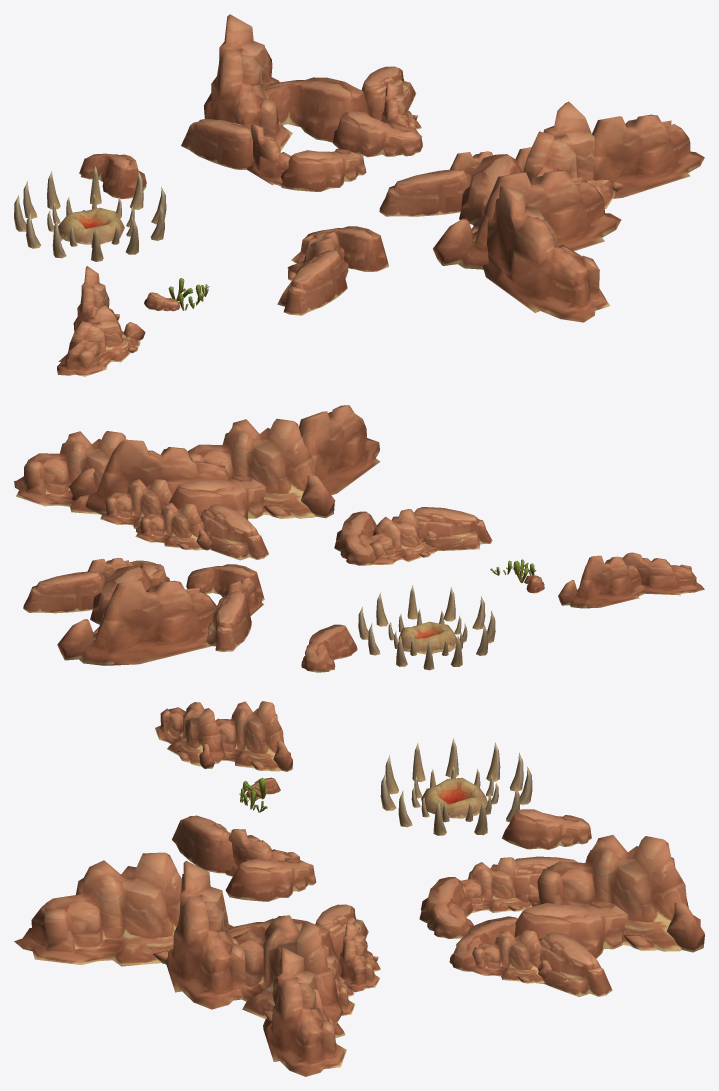
Rendered from rock_red08.fbx.
3 renders of one model, top to bottom at view 1: azimuth 30°, elevation 25°; view 2: azimuth 150°, elevation 25°; view 3: azimuth 270°, elevation 25°, orthographic. The views are drawn at different scales.
Visible parts, largest first — view 1: rock_red08; view 2: rock_red08; view 3: rock_red08.
Boxes of the visible parts, x1,y1,x2,y2 form: rock_red08: [14, 14, 704, 376]; rock_red08: [14, 405, 704, 672]; rock_red08: [14, 701, 704, 1076].
Size of the model in its own units: 11377 by 1351 by 9390.
Materials: 1 (1 with a texture image).
